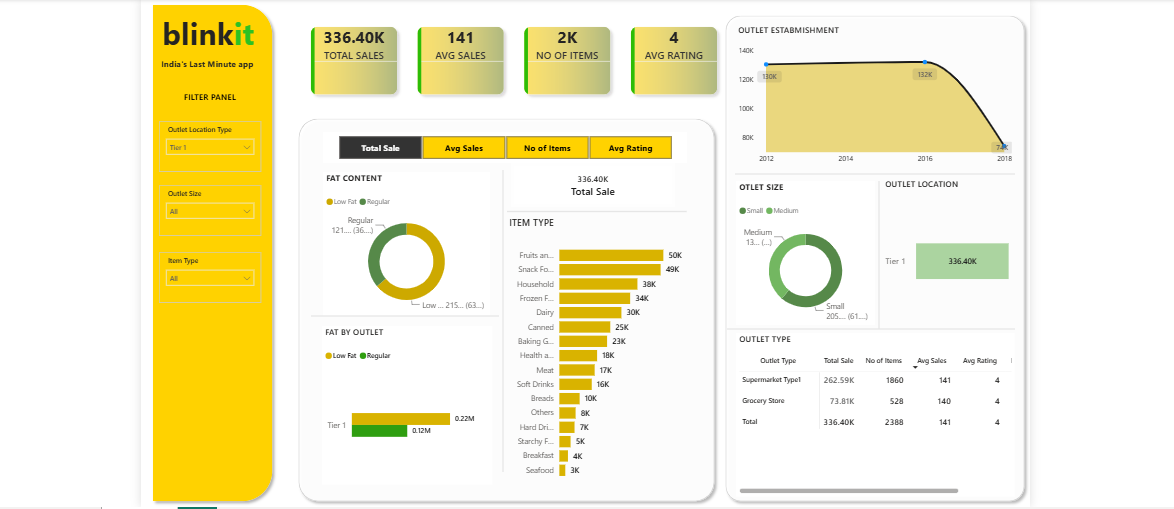

The page's visual inventory and layout, read from the dashboard file:
{"tool":"powerbi","page":{"name":"Page 1","canvas":[1400,800],"ordinal":0},"visuals":[{"type":"shape","box":[9.4,0,206.3,800],"z":0},{"type":"textbox","box":[28.3,15.7,160.6,91.3],"z":1000},{"type":"textbox","box":[26.8,88.2,162.2,36.2],"z":2000},{"type":"cardVisual","fields":{"Data":["BlinkIT Grocery Data.Total Sale","BlinkIT Grocery Data.Avg Sales","BlinkIT Grocery Data.No of Items","BlinkIT Grocery Data.Avg Rating"]},"box":[239.4,15.7,697.6,163.8],"z":3000},{"type":"shape","box":[239.4,179.5,672.4,620.5],"z":4000},{"type":"donutChart","title":"FAT CONTENT","fields":{"Y":["BlinkIT Grocery Data.Total Sale"],"Category":["BlinkIT Grocery Data.Item Fat Content"]},"box":[286.6,272.4,263,226.8],"z":5000},{"type":"slicer","fields":{"Values":["Metrics.Metrics"]},"box":[286.6,209.4,573.2,48.8],"z":6000},{"type":"cardVisual","fields":{"Data":["BlinkIT Grocery Data.Total Sale","BlinkIT Grocery Data.Total Sale"]},"box":[582.7,258.3,258.3,69.3],"z":7000},{"type":"clusteredBarChart","title":"FAT BY OUTLET","fields":{"Y":["BlinkIT Grocery Data.Total Sale"],"Category":["BlinkIT Grocery Data.Outlet Location Type"],"Series":["BlinkIT Grocery Data.Item Fat Content"]},"box":[285,515,267.7,250.4],"z":8000},{"type":"shape","box":[267.7,492.9,296.1,12.6],"z":9000},{"type":"shape","box":[563.8,269.3,12.6,475.6],"z":10000},{"type":"shape","box":[576.4,327.6,283.5,14.2],"z":11000},{"type":"barChart","title":"ITEM TYPE","fields":{"Y":["BlinkIT Grocery Data.Total Sale"],"Category":["BlinkIT Grocery Data.Item Type"]},"box":[574.8,341.7,285,423.6],"z":12000},{"type":"shape","box":[911.8,17.3,488.2,782.7],"z":13000},{"type":"lineChart","title":"OUTLET ESTABMISHMENT ","fields":{"Y":["BlinkIT Grocery Data.Total Sale"],"Category":["BlinkIT Grocery Data.Outlet Establishment Year"]},"box":[935.4,39.4,440.9,229.9],"z":14000},{"type":"shape","box":[935.4,269.3,440.9,12.6],"z":15000},{"type":"donutChart","title":"OTLET SIZE","fields":{"Y":["BlinkIT Grocery Data.Total Sale"],"Category":["BlinkIT Grocery Data.Outlet Size"]},"box":[937,286.6,218.9,226.8],"z":16000},{"type":"funnel","title":"OUTLET LOCATION","fields":{"Y":["Sum(BlinkIT Grocery Data.Sales)"],"Category":["BlinkIT Grocery Data.Outlet Location Type"]},"box":[1166.9,281.9,209.4,233.1],"z":17000},{"type":"shape","box":[922.8,513.4,453.5,12.6],"z":18000},{"type":"pivotTable","title":"OUTLET TYPE","fields":{"Rows":["BlinkIT Grocery Data.Outlet Type"],"Values":["BlinkIT Grocery Data.Total Sale","BlinkIT Grocery Data.No of Items","BlinkIT Grocery Data.Avg Sales","BlinkIT Grocery Data.Avg Rating","Avg(BlinkIT Grocery Data.Item Visibility)"]},"box":[937,526,439.4,258.3],"z":19000},{"type":"shape","box":[1155.9,286.6,12.6,233.1],"z":20000},{"type":"slicer","fields":{"Values":["BlinkIT Grocery Data.Outlet Location Type"]},"box":[28.3,192.1,160.6,80.3],"z":21000},{"type":"slicer","fields":{"Values":["BlinkIT Grocery Data.Outlet Size"]},"box":[28.3,292.9,160.6,80.3],"z":22000},{"type":"slicer","fields":{"Values":["BlinkIT Grocery Data.Item Type"]},"box":[28.3,398.4,160.6,80.3],"z":23000},{"type":"textbox","box":[28.3,140.2,160.6,39.4],"z":24000}]}

Visuals, with their boxes on the page's 1400x800 design canvas (x1, y1, x2, y2). These are canvas units, not pixel positions in the 1174x509 screenshot, which may show the page scaled, cropped or inside an application window:
shape: (x1=9, y1=0, x2=216, y2=800)
textbox: (x1=28, y1=16, x2=189, y2=107)
textbox: (x1=27, y1=88, x2=189, y2=124)
cardVisual - BlinkIT Grocery Data.Total Sale x BlinkIT Grocery Data.Avg Sales: (x1=239, y1=16, x2=937, y2=180)
shape: (x1=239, y1=180, x2=912, y2=800)
"FAT CONTENT" donutChart: (x1=287, y1=272, x2=550, y2=499)
slicer - Metrics.Metrics: (x1=287, y1=209, x2=860, y2=258)
cardVisual - BlinkIT Grocery Data.Total Sale x BlinkIT Grocery Data.Total Sale: (x1=583, y1=258, x2=841, y2=328)
"FAT BY OUTLET" clusteredBarChart: (x1=285, y1=515, x2=553, y2=765)
shape: (x1=268, y1=493, x2=564, y2=506)
shape: (x1=564, y1=269, x2=576, y2=745)
shape: (x1=576, y1=328, x2=860, y2=342)
"ITEM TYPE" barChart: (x1=575, y1=342, x2=860, y2=765)
shape: (x1=912, y1=17, x2=1400, y2=800)
"OUTLET ESTABMISHMENT " lineChart: (x1=935, y1=39, x2=1376, y2=269)
shape: (x1=935, y1=269, x2=1376, y2=282)
"OTLET SIZE" donutChart: (x1=937, y1=287, x2=1156, y2=513)
"OUTLET LOCATION" funnel: (x1=1167, y1=282, x2=1376, y2=515)
shape: (x1=923, y1=513, x2=1376, y2=526)
"OUTLET TYPE" pivotTable: (x1=937, y1=526, x2=1376, y2=784)
shape: (x1=1156, y1=287, x2=1168, y2=520)
slicer - BlinkIT Grocery Data.Outlet Location Type: (x1=28, y1=192, x2=189, y2=272)
slicer - BlinkIT Grocery Data.Outlet Size: (x1=28, y1=293, x2=189, y2=373)
slicer - BlinkIT Grocery Data.Item Type: (x1=28, y1=398, x2=189, y2=479)
textbox: (x1=28, y1=140, x2=189, y2=180)
